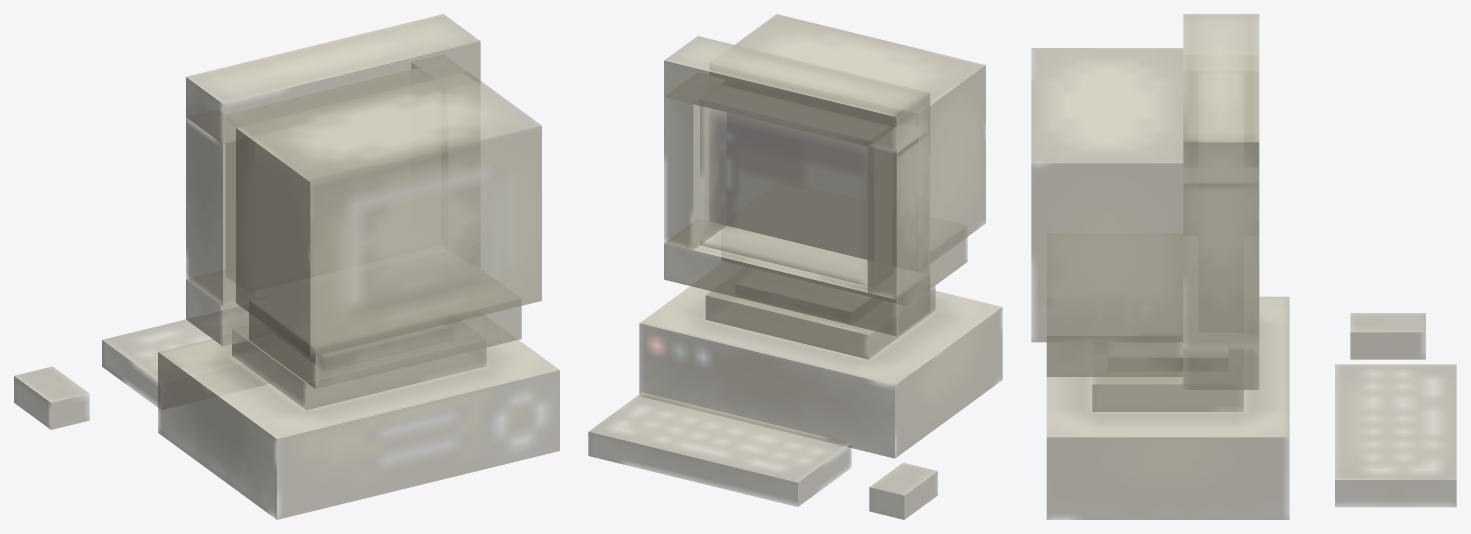
The model's file is Retro_Computer_-_PC_Low_Poly_3D_Model.glb.
3 renders of one model, left to right at view 1: azimuth 30°, elevation 25°; view 2: azimuth 150°, elevation 25°; view 3: azimuth 270°, elevation 25°, orthographic. The views are drawn at different scales.
Visible parts, largest first — view 1: unnamed (×12); view 2: unnamed (×12); view 3: unnamed (×12).
Boxes of the visible parts, x1,y1,x2,y2 form: unnamed (×12): [14, 14, 559, 519]; unnamed (×12): [588, 14, 1002, 519]; unnamed (×12): [1031, 14, 1456, 519].
Bounding box in the file's own units: 1.75 × 1.69 × 1.75.
1 material, 1 textured.
